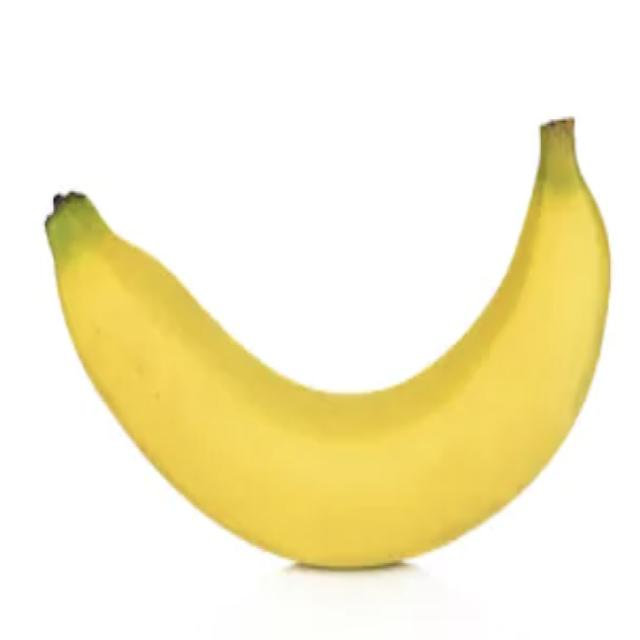fresh-banana: (43, 113, 611, 569)
